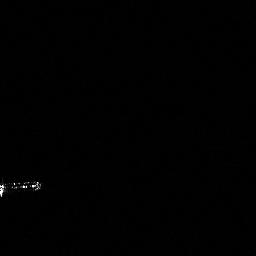ship: (1, 179, 42, 198)
